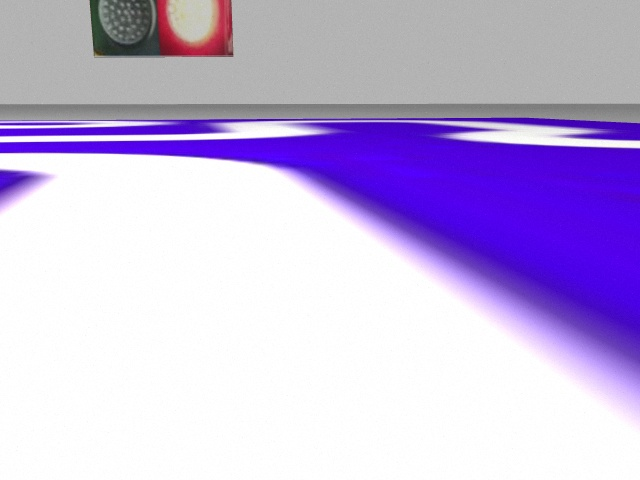red: (157, 2, 232, 53)
